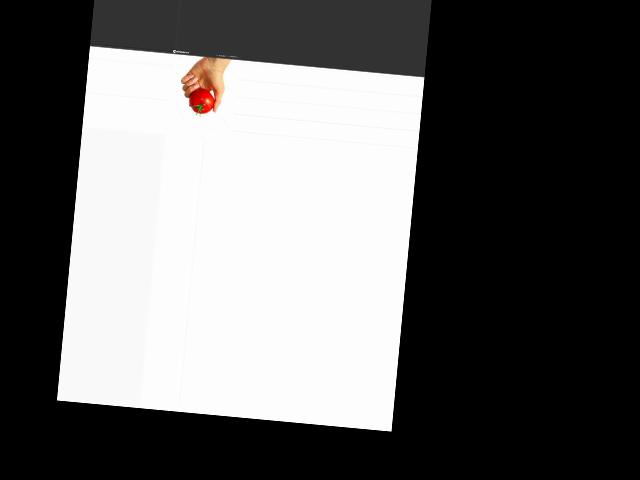tomato: (188, 87, 215, 115)
